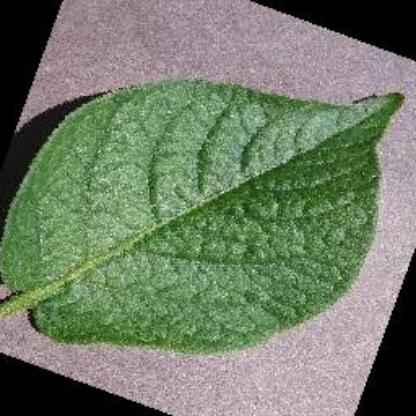Healthy-plant: (4, 38, 411, 364)
